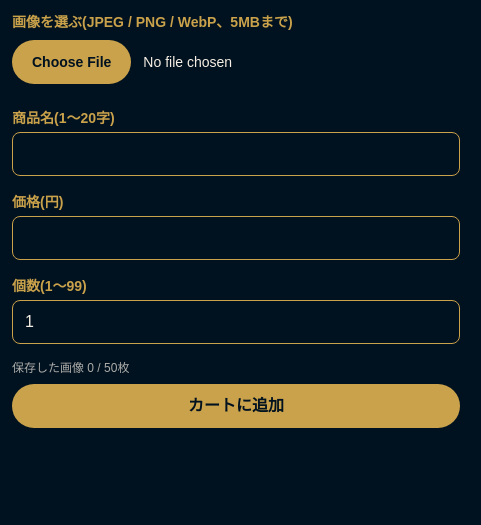
Test: UploadForm(送信の検証) › エラーを直すと、すぐにエラーが消える
This screenshot has width=481, height=525.
Click the button "カートに追加".
click(236, 406)  # box [12,384,460,428]
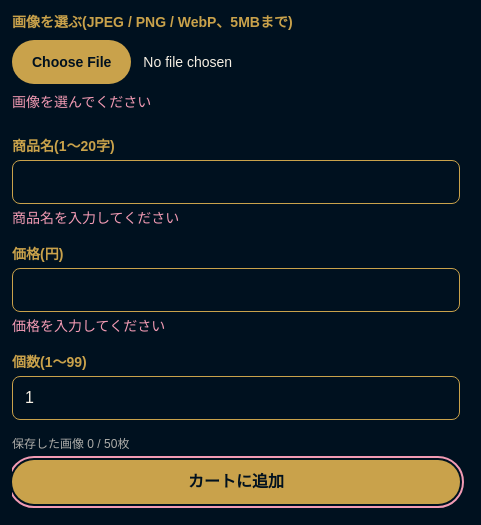
Expected: the text "商品名を入力してください" is shown, [12,210,179,226]
Type "欲しい物" into the field labelled "商品名(1〜20字)".
click(236, 182); type("欲しい物")  # box [12,160,460,204]
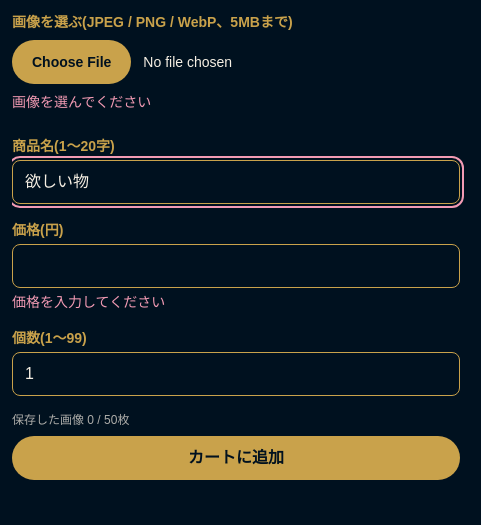
Expected: the text "商品名を入力してください" is gone
